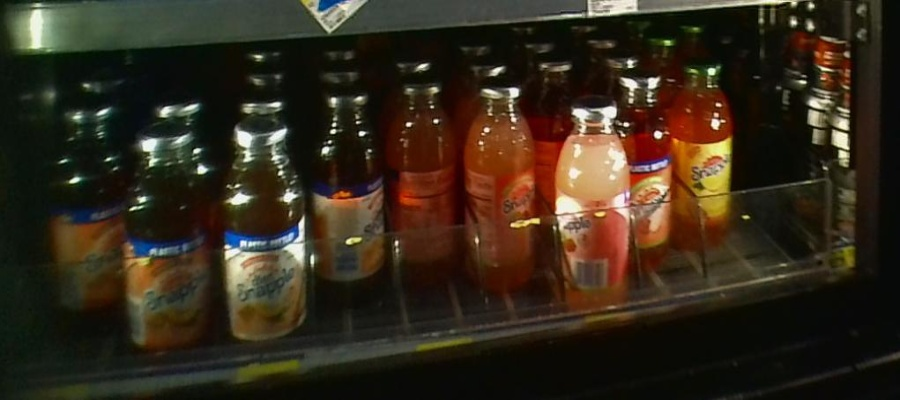bottle: (218, 117, 311, 365), (124, 123, 210, 363), (559, 94, 631, 317), (465, 76, 539, 288), (54, 96, 121, 314), (314, 96, 382, 307), (387, 74, 457, 274), (675, 61, 733, 253), (634, 66, 674, 270)
